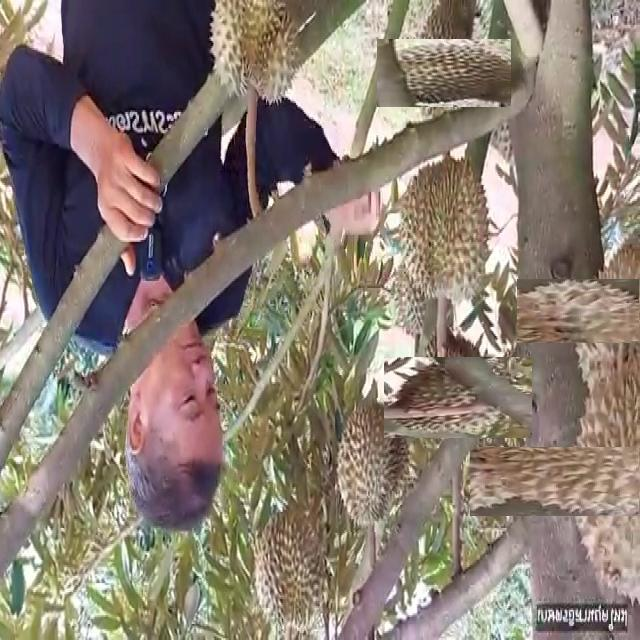durian: (519, 397, 640, 566), (398, 147, 488, 308), (400, 340, 515, 455), (545, 251, 640, 372), (207, 2, 300, 116), (394, 22, 495, 124), (336, 398, 412, 532), (251, 504, 327, 633)
